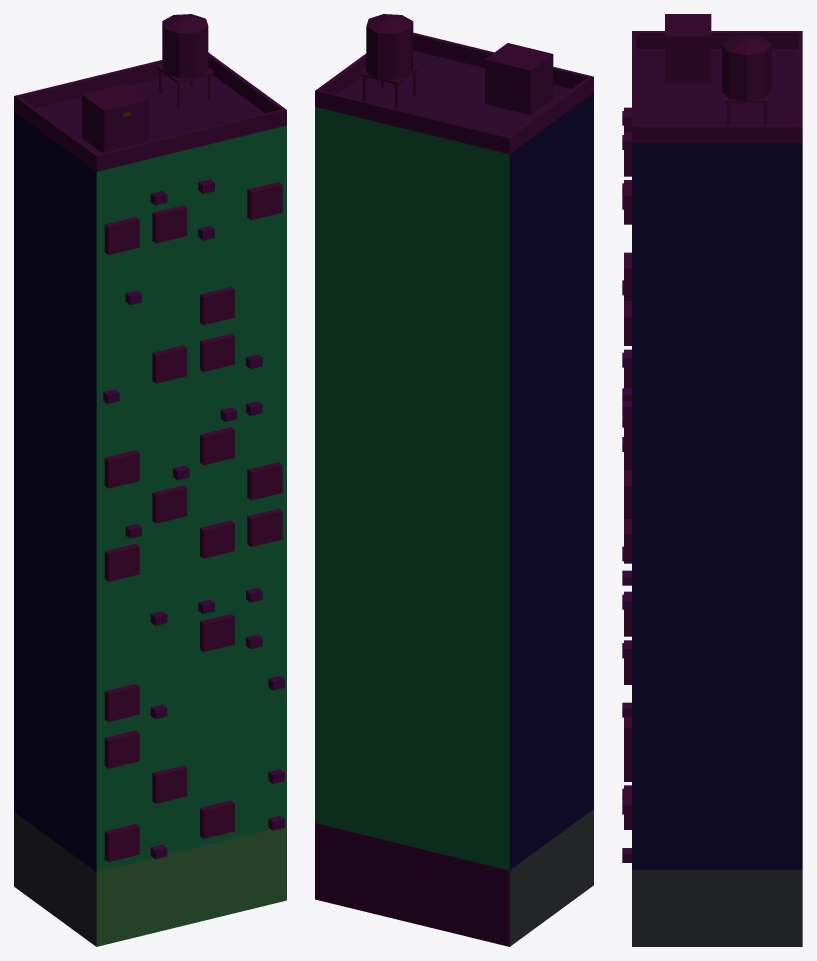
Rendered from slab_h.lod1.glb.
The picture shows the model from 3 angles, left to right: view 1: azimuth 30°, elevation 25°; view 2: azimuth 150°, elevation 25°; view 3: azimuth 270°, elevation 25°; orthographic projection. The views are drawn at different scales.
Parts seen in each view (by area): view 1: slab_h.lod1; view 2: slab_h.lod1; view 3: slab_h.lod1.
Boxes of the visible parts, <box> form: slab_h.lod1: <box>14,14,286,946</box>; slab_h.lod1: <box>315,14,593,946</box>; slab_h.lod1: <box>622,14,802,946</box>.
Bounding box in the file's own units: 12.8 × 54.76 × 10.15.
